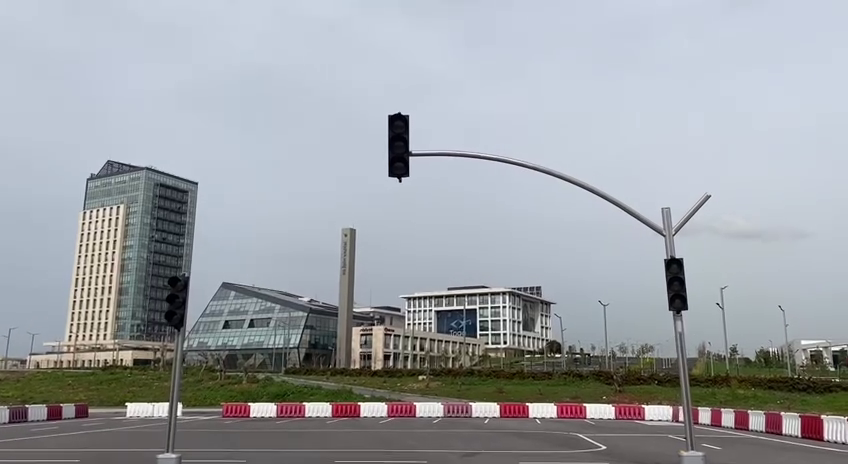trafficLight: (382, 108, 414, 185), (659, 252, 691, 316), (162, 269, 193, 333)
